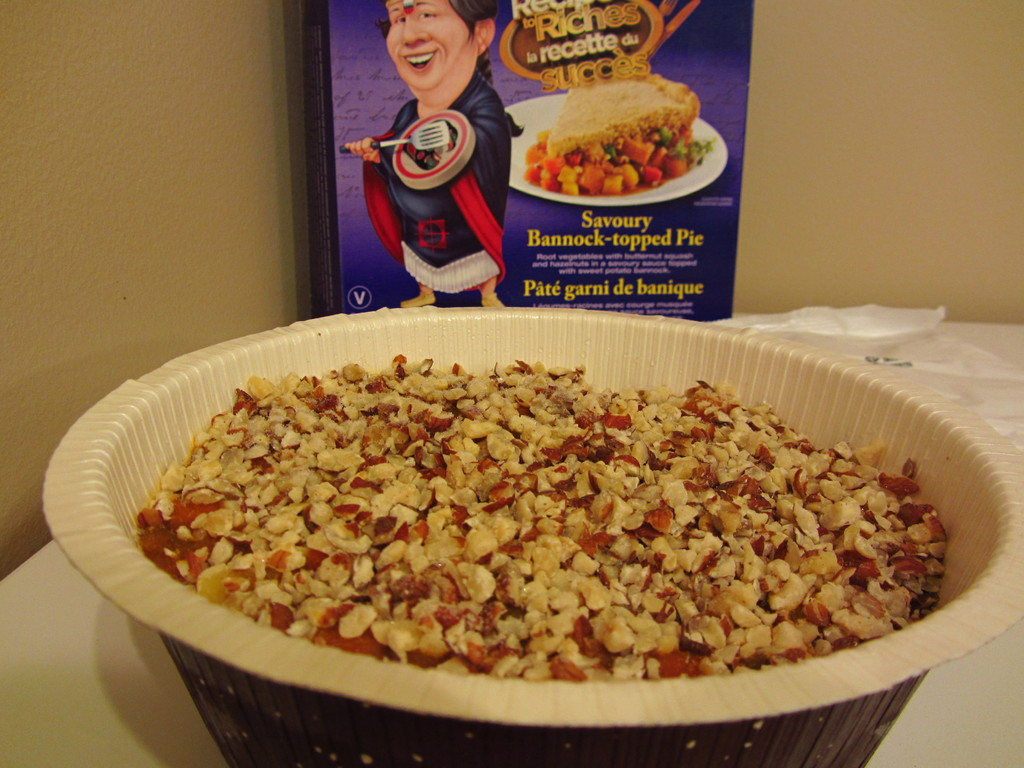Person: (345, 0, 526, 310)
